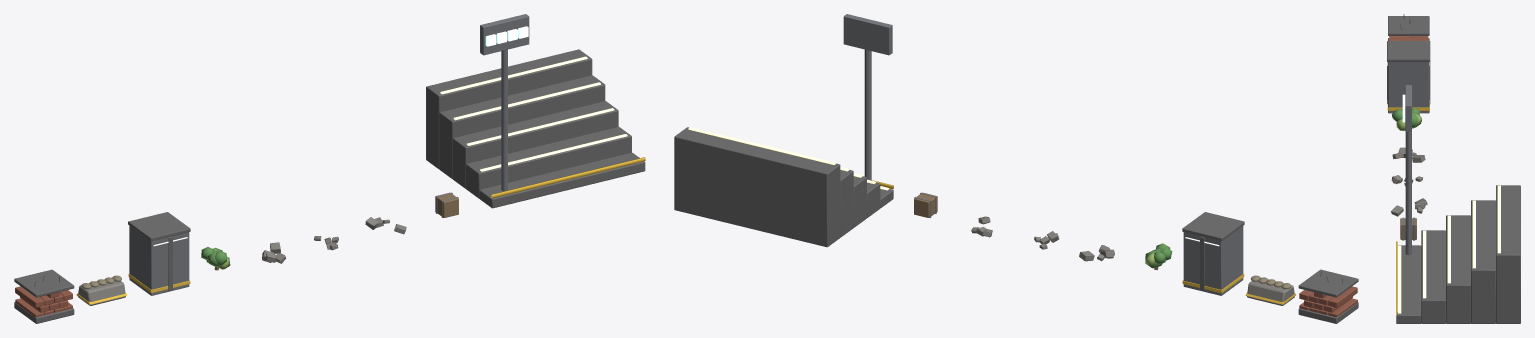
File: props.glb
3 views of the same model, side by side, from view 1: azimuth 30°, elevation 25°; view 2: azimuth 150°, elevation 25°; view 3: azimuth 270°, elevation 25° (orthographic). The views are drawn at different scales.
Parts seen in each view (by area): view 1: Grandstand, OuterWall, FloodTower, Wall, LowWall, Crate, Bush; view 2: Grandstand, OuterWall, FloodTower, Wall, LowWall, Crate; view 3: Grandstand, OuterWall, FloodTower, Wall, Bush, Crate, Rubble2, Rubble0, Rubble1.
Part boxes in pixels (x1,y1,x2,y2): Grandstand: (426,49,645,208); OuterWall: (128,212,190,295); FloodTower: (480,14,529,190); Wall: (14,269,74,323); LowWall: (76,275,126,305); Crate: (435,192,458,217); Bush: (201,247,230,270); Grandstand: (674,127,893,247); OuterWall: (1182,212,1244,295); FloodTower: (843,14,892,180); Wall: (1298,269,1358,323); LowWall: (1245,275,1295,305); Crate: (914,192,937,217); Grandstand: (1396,185,1520,323); OuterWall: (1387,41,1430,113); FloodTower: (1402,85,1411,255); Wall: (1388,14,1429,40); Bush: (1391,108,1421,130); Crate: (1400,217,1416,240); Rubble2: (1391,198,1427,216); Rubble0: (1392,147,1425,162); Rubble1: (1391,175,1422,186).
Bounding box in the file's own units: 16 × 4.54 × 3.22.
